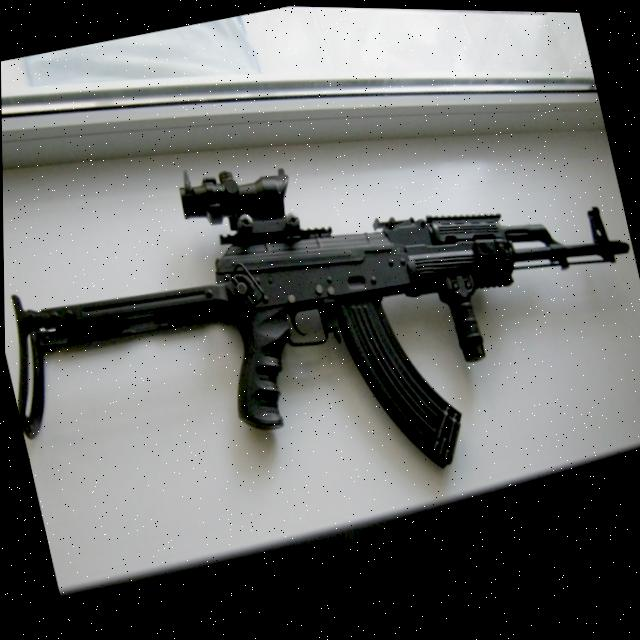firearm: (1, 86, 640, 553)
